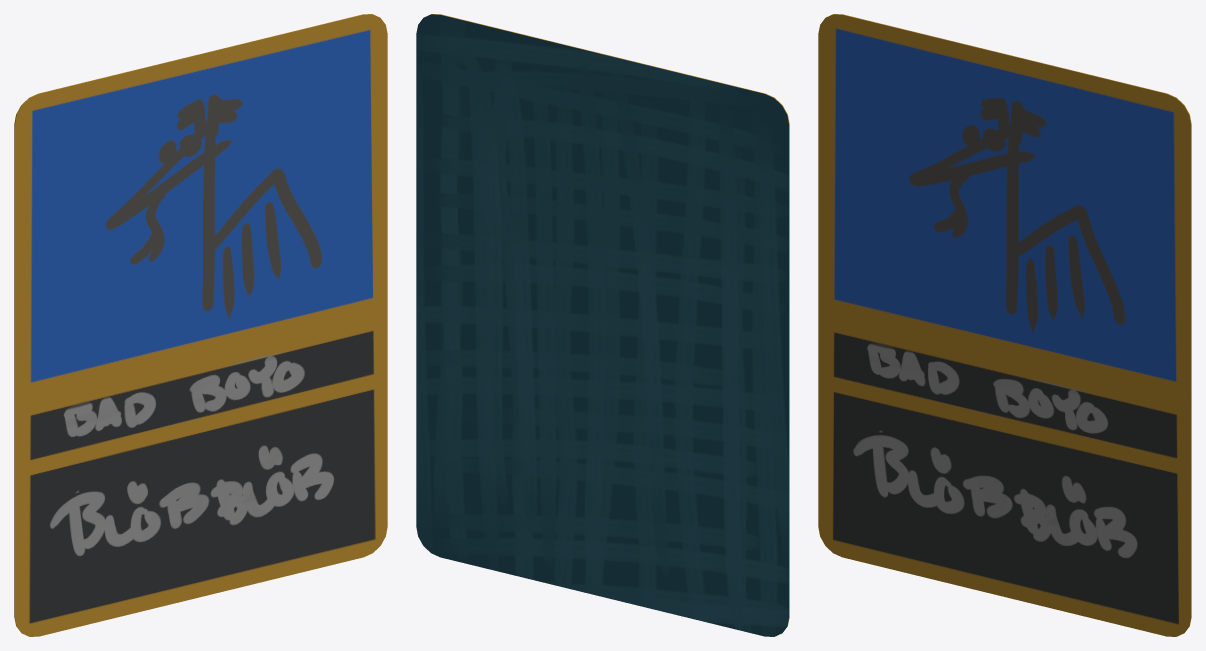
File: card_v01.fbx
3 renders of one model, left to right at view 1: azimuth 30°, elevation 25°; view 2: azimuth 150°, elevation 25°; view 3: azimuth 330°, elevation 25°, orthographic.
Parts seen in each view (by area): view 1: card; view 2: card; view 3: card.
Boxes of the visible parts, <box> form: card: <box>14,14,387,636</box>; card: <box>416,14,789,636</box>; card: <box>818,14,1191,636</box>.
Size of the model in its own units: 6.4 by 8.9 by 0.017.
